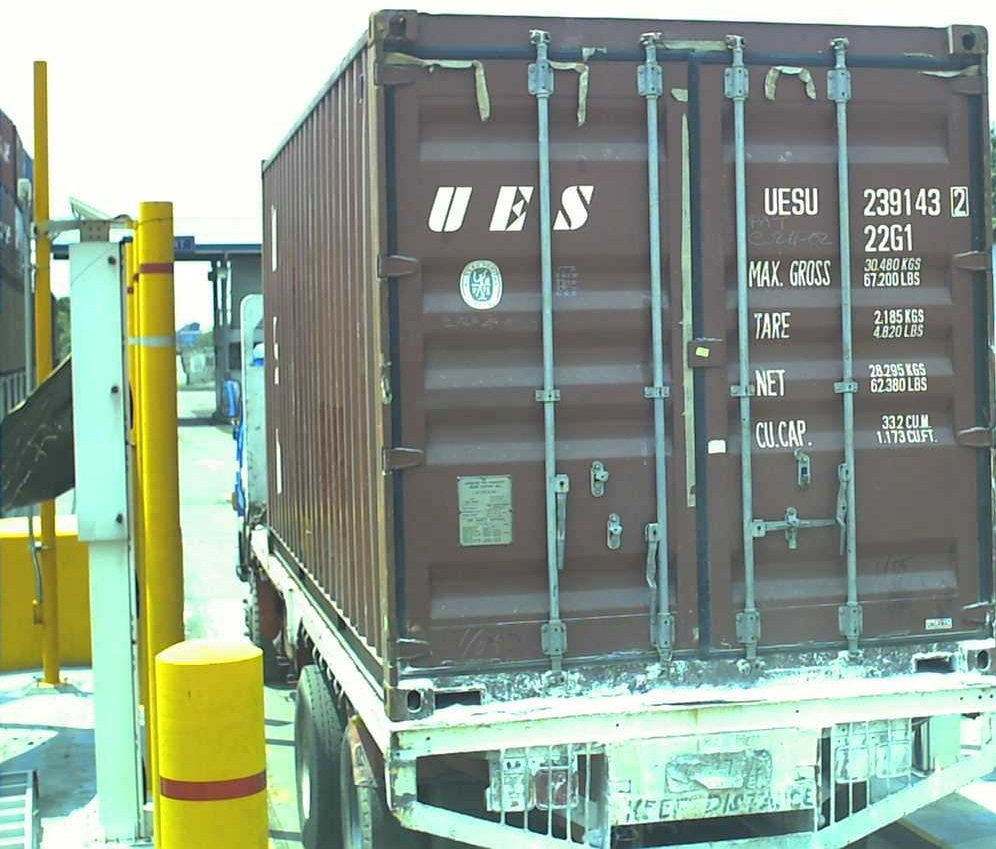container_door: (373, 6, 996, 737)
